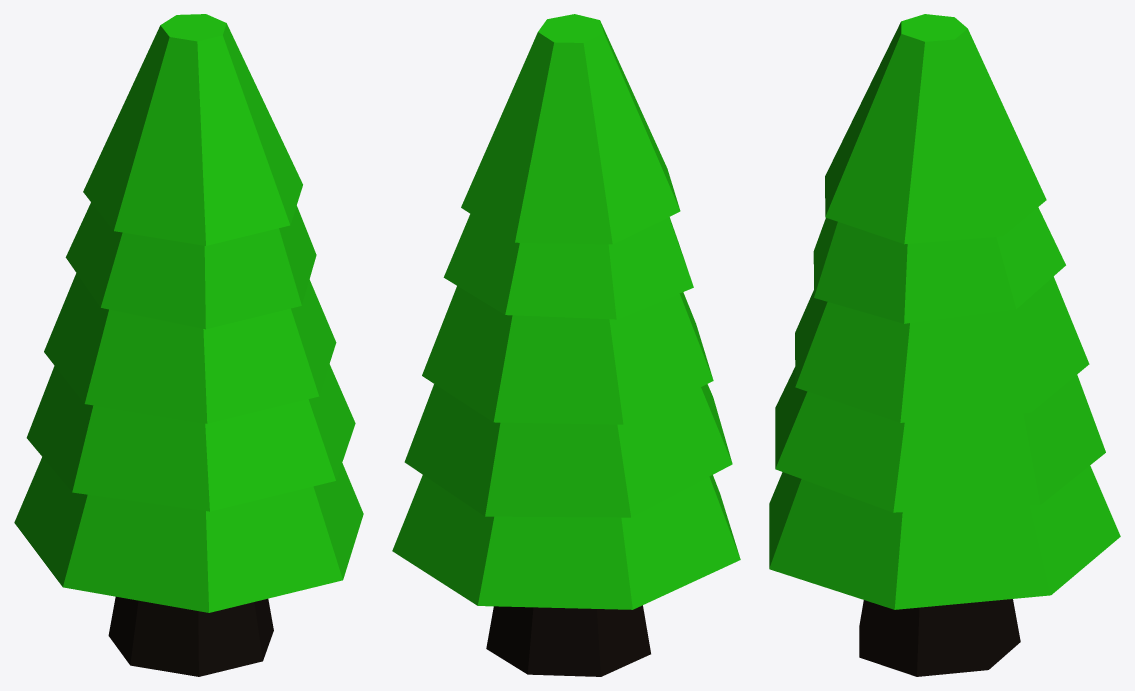
The model's file is ctree4B(F68).obj.
3 renders of one model, left to right at view 1: azimuth 30°, elevation 25°; view 2: azimuth 150°, elevation 25°; view 3: azimuth 270°, elevation 25°, orthographic.
Parts seen in each view (by area): view 1: Cylinder.106, Cylinder.102, Cylinder.103, Cylinder.104, Cylinder.105, Cylinder.101; view 2: Cylinder.106, Cylinder.102, Cylinder.103, Cylinder.104, Cylinder.105, Cylinder.101; view 3: Cylinder.106, Cylinder.102, Cylinder.103, Cylinder.104, Cylinder.105, Cylinder.101.
Part boxes in pixels (x1,y1,x2,y2): Cylinder.106: [83, 14, 302, 245]; Cylinder.102: [14, 457, 363, 612]; Cylinder.103: [26, 364, 355, 511]; Cylinder.104: [44, 273, 336, 423]; Cylinder.105: [65, 202, 316, 329]; Cylinder.101: [108, 596, 273, 676]; Cylinder.106: [461, 14, 680, 244]; Cylinder.102: [392, 475, 740, 609]; Cylinder.103: [404, 384, 732, 517]; Cylinder.104: [422, 286, 713, 424]; Cylinder.105: [443, 214, 693, 319]; Cylinder.101: [486, 605, 650, 676]; Cylinder.106: [825, 14, 1046, 244]; Cylinder.102: [769, 465, 1120, 609]; Cylinder.103: [775, 367, 1105, 512]; Cylinder.104: [795, 276, 1089, 422]; Cylinder.105: [813, 207, 1065, 323]; Cylinder.101: [859, 599, 1020, 676].
Bounding box in the file's own units: 1.07 × 2.1 × 1.09.
